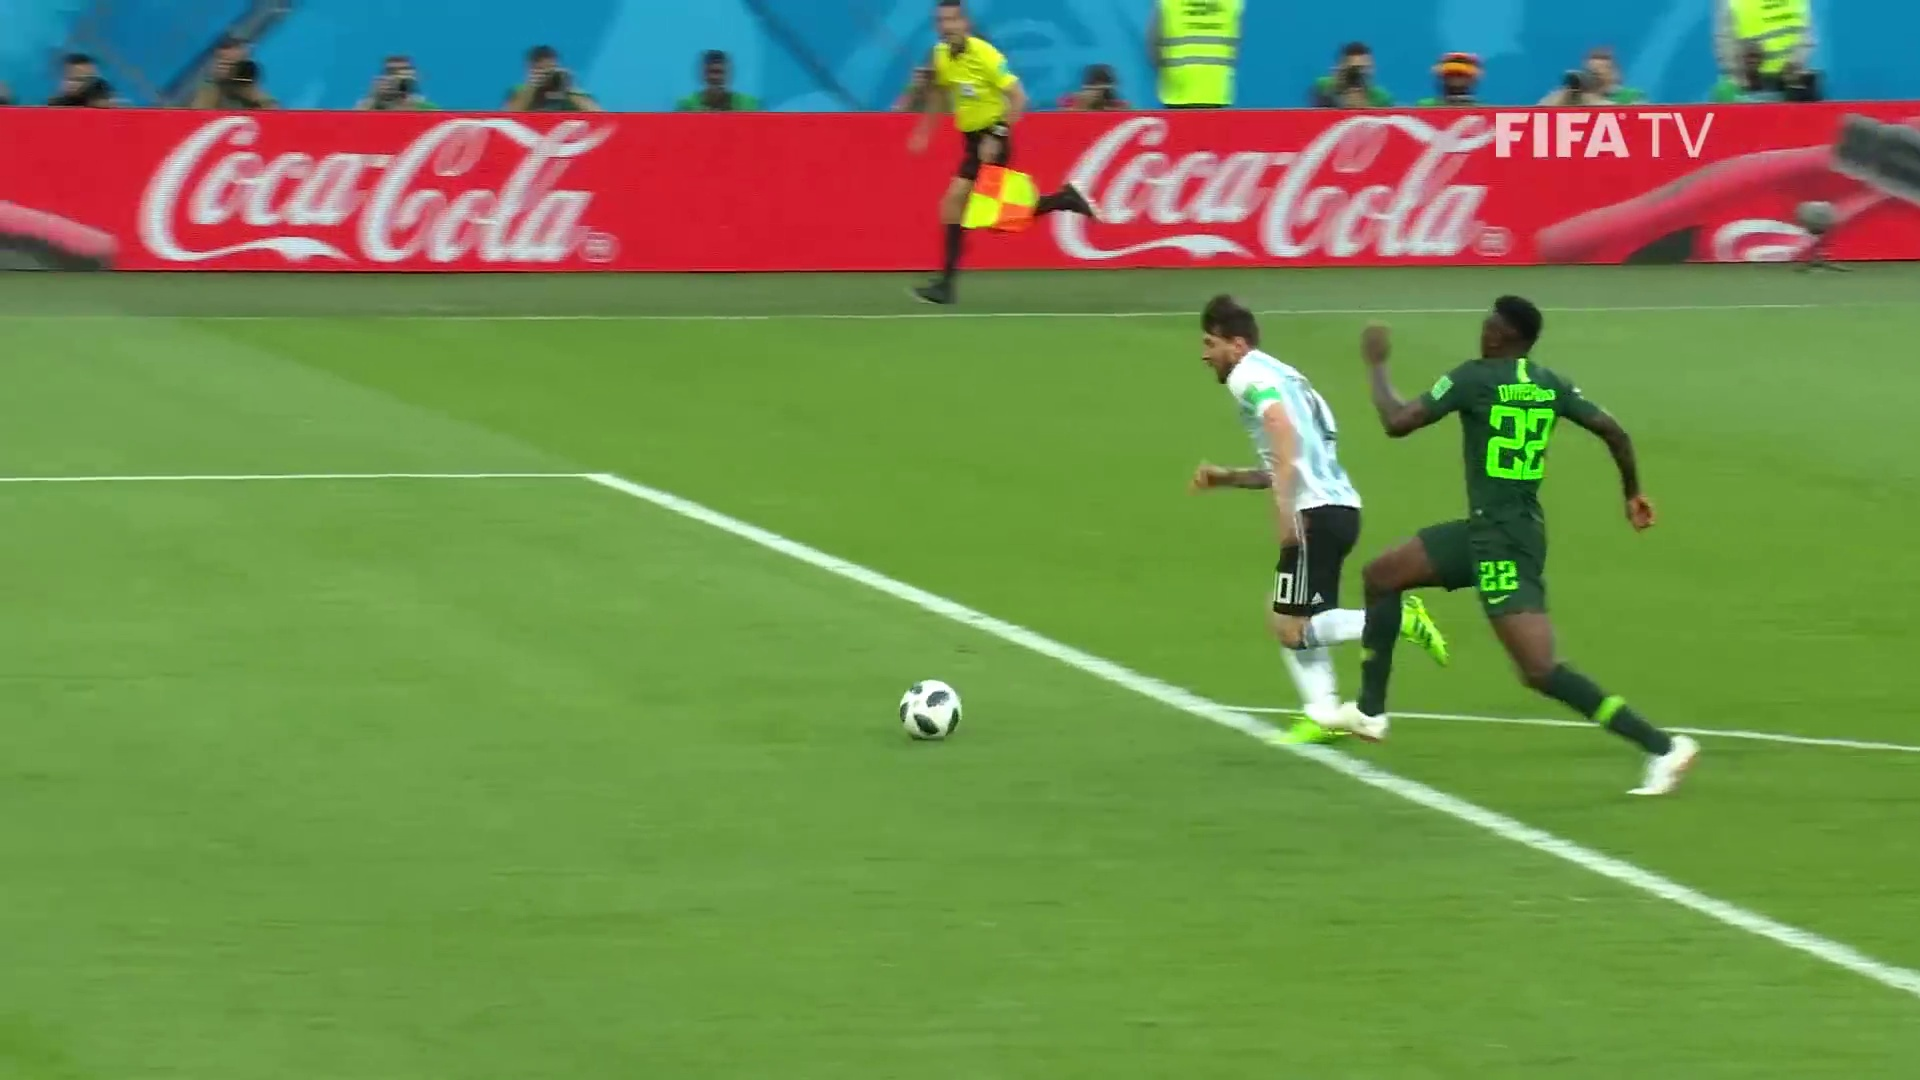ball: (897, 678, 961, 737)
person: (1342, 294, 1697, 798), (1191, 300, 1442, 745)
